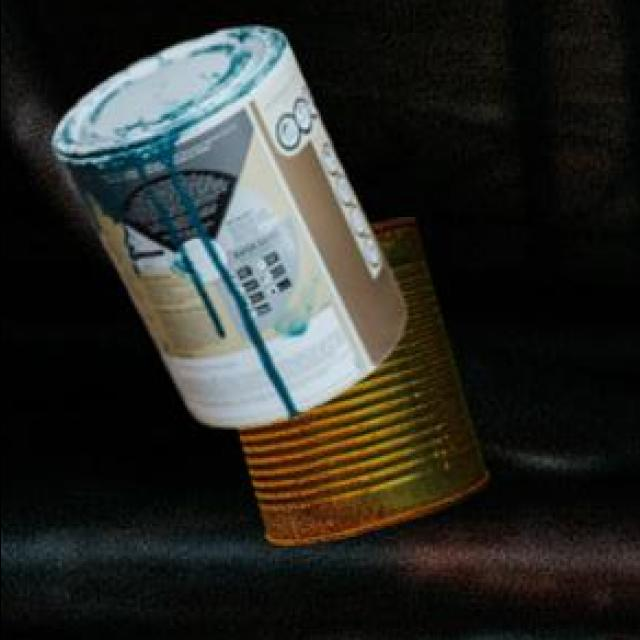logam: (49, 30, 402, 431), (233, 222, 485, 551)
